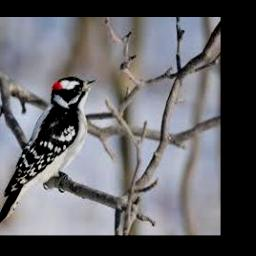Woodpecker: (0, 77, 98, 225)
